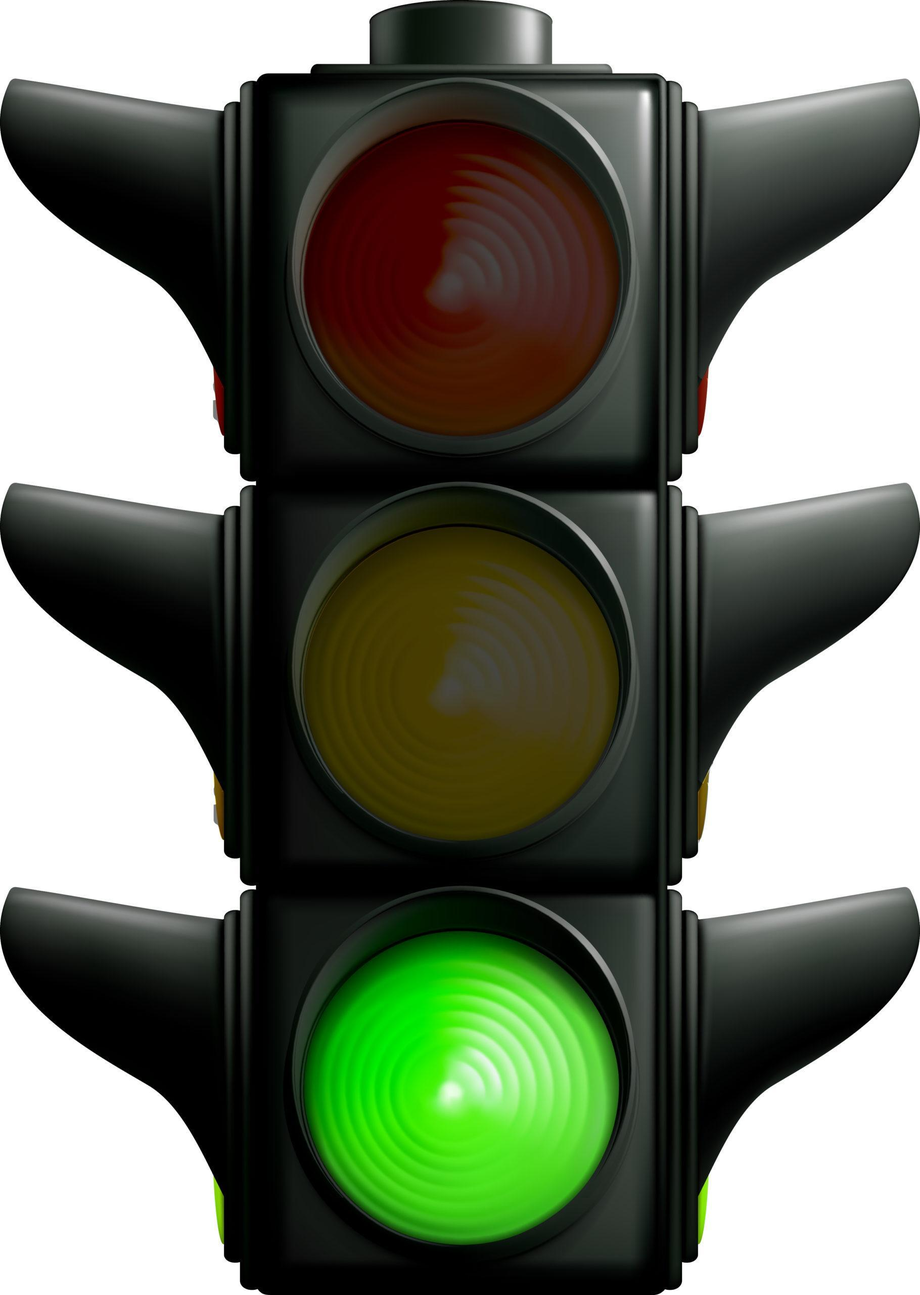green: (248, 78, 672, 1277)
